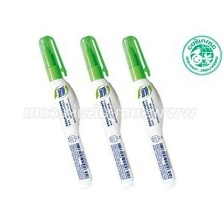correction_fluid: (119, 33, 179, 192), (76, 34, 137, 190), (35, 33, 94, 190)
